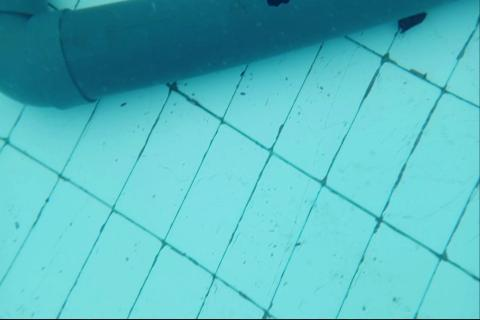kebocoran: (266, 0, 291, 9)
